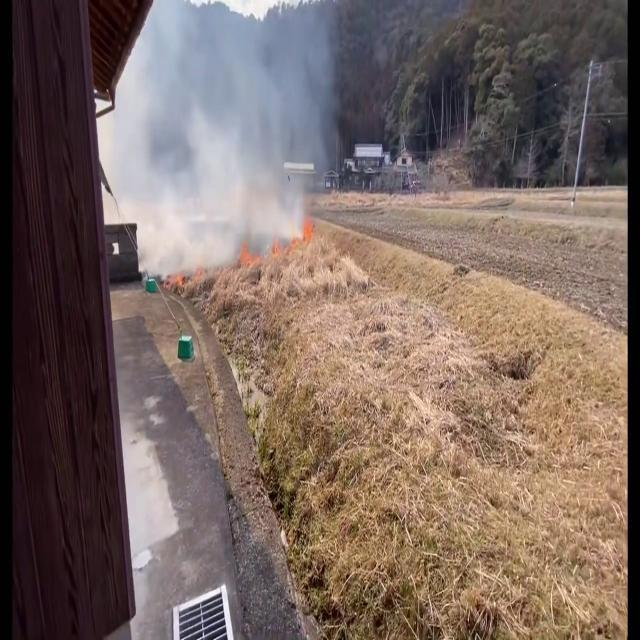Smoke: (106, 0, 340, 296)
